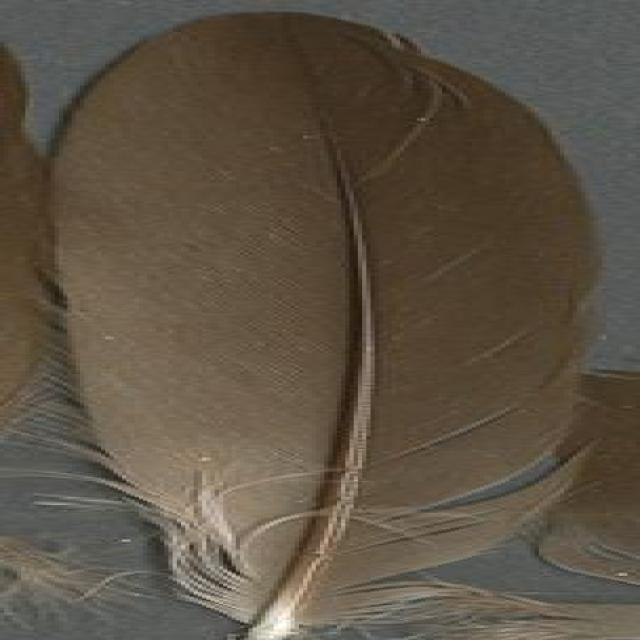feather: (56, 12, 604, 640)
